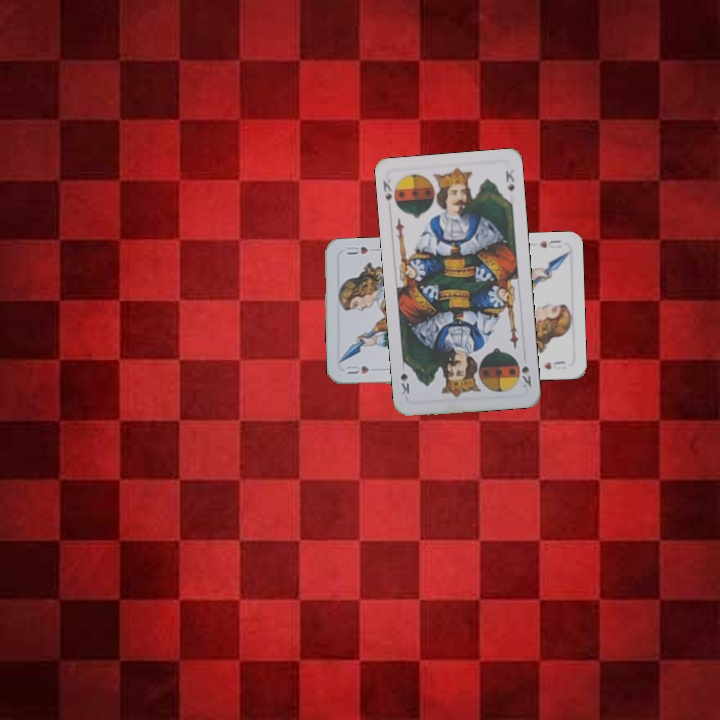HU: (535, 236, 564, 251), (343, 362, 371, 376)
SK: (518, 362, 534, 390), (378, 175, 394, 203)
